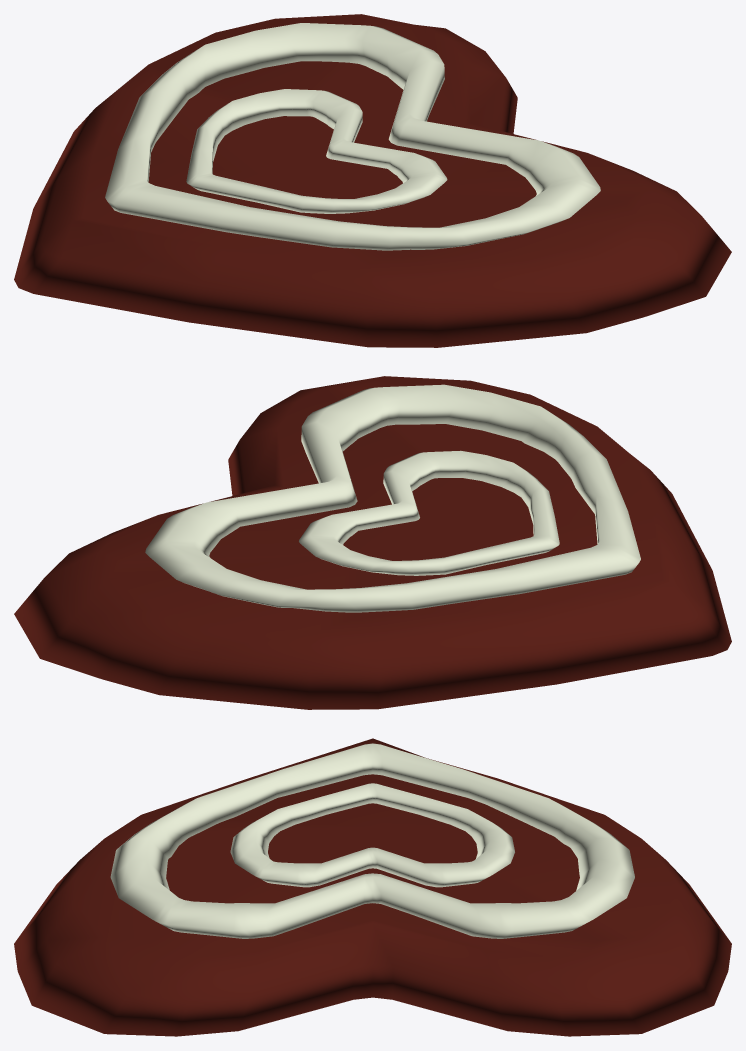
The model's file is cookie02.fbx.
3 views of the same model, one above another, from view 1: azimuth 30°, elevation 25°; view 2: azimuth 150°, elevation 25°; view 3: azimuth 270°, elevation 25° (orthographic). The views are drawn at different scales.
Visible parts, largest first — view 1: cookie02; view 2: cookie02; view 3: cookie02.
Boxes of the visible parts, <box> form: cookie02: <box>14,14,731,347</box>; cookie02: <box>14,376,731,709</box>; cookie02: <box>14,738,731,1036</box>.
Bounding box in the file's own units: 50.85 × 6.61 × 56.82.
